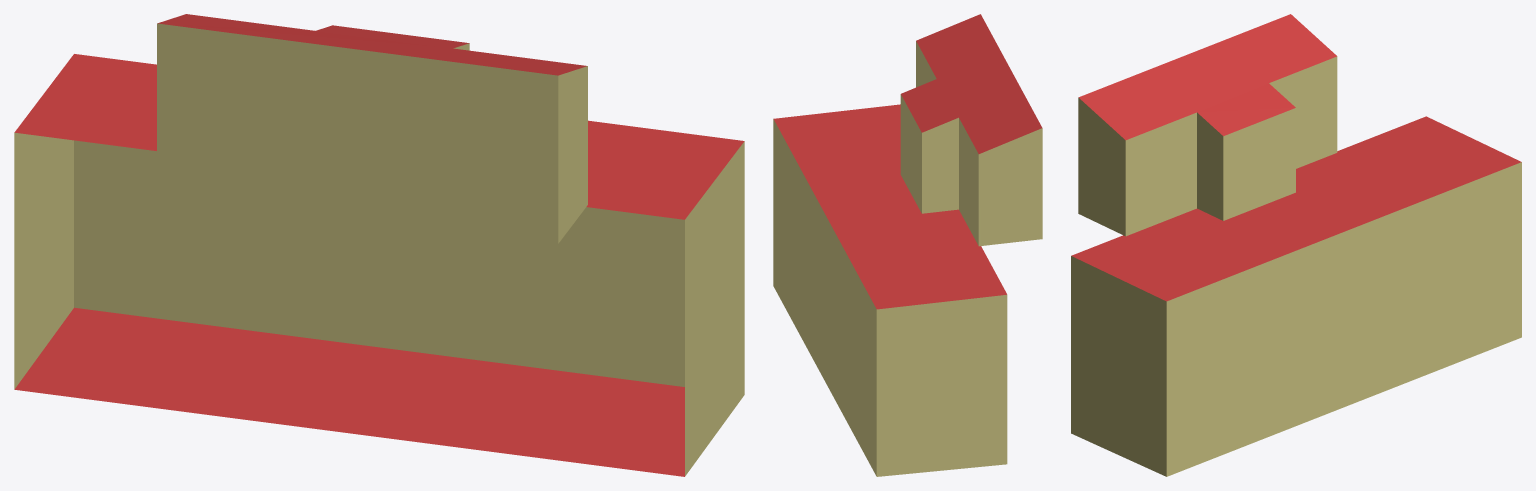
3 views of the same model, side by side, from view 1: azimuth 30°, elevation 25°; view 2: azimuth 150°, elevation 25°; view 3: azimuth 270°, elevation 25° (orthographic). The views are drawn at different scales.
Size of the model in its own units: 14.87 by 15.49 by 11.19.
